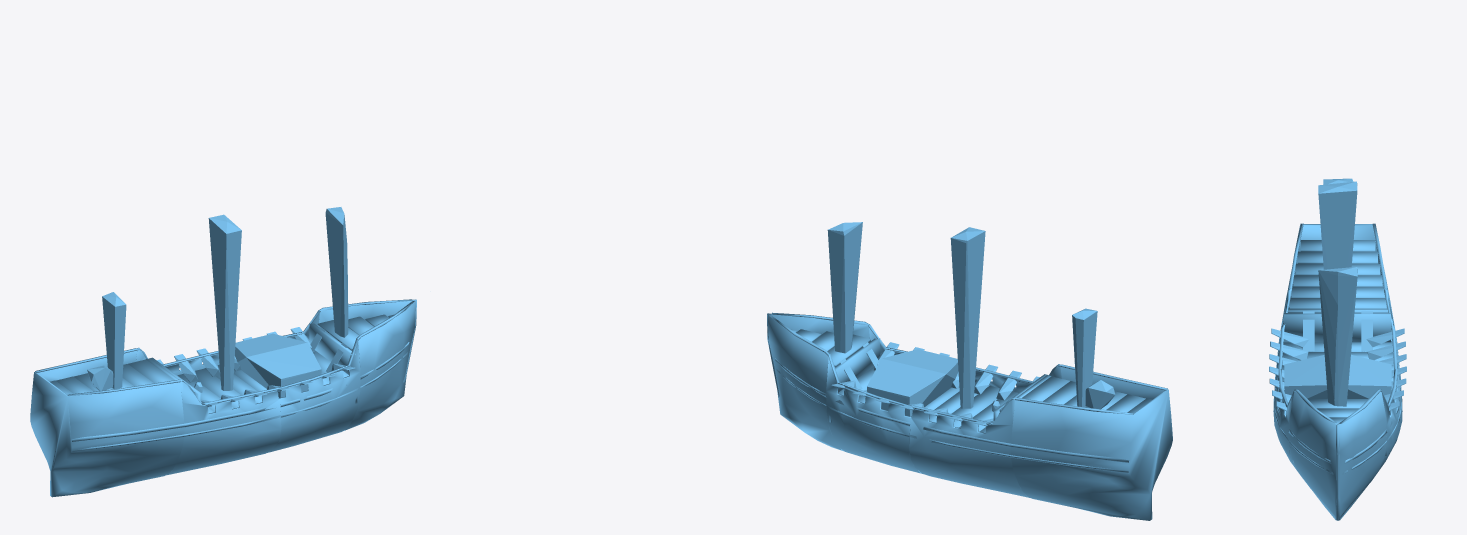
The model's file is Second_Bride_PHYS.dae.
3 views of the same model, side by side, from view 1: azimuth 30°, elevation 25°; view 2: azimuth 150°, elevation 25°; view 3: azimuth 270°, elevation 25° (orthographic). The views are drawn at different scales.
Visible parts, largest first — view 1: Bride_Hull_Stern_PHYS, Bride_Hull_Aft_PHYS, Bride_Hull_Bow_PHYS, Bride_Hull_Fore_PHYS, Bride_Mast_Main_PHYS, Bride_Boat_PHYS, Bride_Mast_Fore_PHYS, Bride_Deck_Quarter_PHYS, Bride_Mast_Mizzen_PHYS, Bride_Deck_Main_PHYS, Bride_Deck_Fore_PHYS, Bride_Bulkhead_Fore_PHYS; view 2: Bride_Hull_Stern_PHYS, Bride_Hull_Aft_PHYS, Bride_Hull_Bow_PHYS, Bride_Hull_Fore_PHYS, Bride_Mast_Main_PHYS, Bride_Boat_PHYS, Bride_Mast_Fore_PHYS, Bride_Deck_Quarter_PHYS, Bride_Mast_Mizzen_PHYS, Bride_Deck_Main_PHYS, Bride_Deck_Fore_PHYS, Bride_Bulkhead_Fore_PHYS; view 3: Bride_Hull_Bow_PHYS, Bride_Mast_Fore_PHYS, Bride_Deck_Quarter_PHYS, Bride_Boat_PHYS, Bride_Mast_Main_PHYS, Bride_Hull_Fore_PHYS, Bride_Bulkhead_Cabin_PHYS, Bride_Hull_Stern_PHYS, Bride_Deck_Main_PHYS, Bride_Hull_Aft_PHYS, Bride_Deck_Fore_PHYS, Bride_Stair_Quarter_1_PHYS (+5 smaller).
Part boxes in pixels (<box>): Bride_Hull_Stern_PHYS: <box>30,348,184,497</box>; Bride_Hull_Aft_PHYS: <box>136,347,281,475</box>; Bride_Hull_Bow_PHYS: <box>319,299,416,430</box>; Bride_Hull_Fore_PHYS: <box>267,310,360,452</box>; Bride_Mast_Main_PHYS: <box>208,214,241,390</box>; Bride_Boat_PHYS: <box>235,333,321,397</box>; Bride_Mast_Fore_PHYS: <box>325,207,348,337</box>; Bride_Deck_Quarter_PHYS: <box>50,358,195,394</box>; Bride_Mast_Mizzen_PHYS: <box>102,292,126,389</box>; Bride_Deck_Main_PHYS: <box>177,364,262,413</box>; Bride_Deck_Fore_PHYS: <box>317,314,394,350</box>; Bride_Bulkhead_Fore_PHYS: <box>309,323,355,374</box>; Bride_Hull_Stern_PHYS: <box>1010,364,1172,520</box>; Bride_Hull_Aft_PHYS: <box>909,364,1061,497</box>; Bride_Hull_Bow_PHYS: <box>767,312,869,451</box>; Bride_Hull_Fore_PHYS: <box>826,324,922,473</box>; Bride_Mast_Main_PHYS: <box>950,227,985,408</box>; Bride_Boat_PHYS: <box>867,349,958,416</box>; Bride_Mast_Fore_PHYS: <box>827,222,862,353</box>; Bride_Deck_Quarter_PHYS: <box>999,375,1152,413</box>; Bride_Mast_Mizzen_PHYS: <box>1072,308,1097,407</box>; Bride_Deck_Main_PHYS: <box>929,382,1018,432</box>; Bride_Deck_Fore_PHYS: <box>790,329,870,366</box>; Bride_Bulkhead_Fore_PHYS: <box>835,338,880,392</box>; Bride_Hull_Bow_PHYS: <box>1288,389,1387,520</box>; Bride_Mast_Fore_PHYS: <box>1318,267,1357,406</box>; Bride_Deck_Quarter_PHYS: <box>1288,240,1387,312</box>; Bride_Boat_PHYS: <box>1284,354,1391,402</box>; Bride_Mast_Main_PHYS: <box>1318,181,1357,269</box>; Bride_Hull_Fore_PHYS: <box>1273,369,1402,488</box>; Bride_Bulkhead_Cabin_PHYS: <box>1284,313,1390,342</box>; Bride_Hull_Stern_PHYS: <box>1280,223,1395,340</box>; Bride_Deck_Main_PHYS: <box>1282,272,1393,381</box>; Bride_Hull_Aft_PHYS: <box>1273,288,1402,411</box>; Bride_Deck_Fore_PHYS: <box>1308,399,1367,423</box>; Bride_Stair_Quarter_1_PHYS: <box>1361,311,1372,351</box>.
Size of the model in its own units: 58.49 by 18.8 by 39.66.
